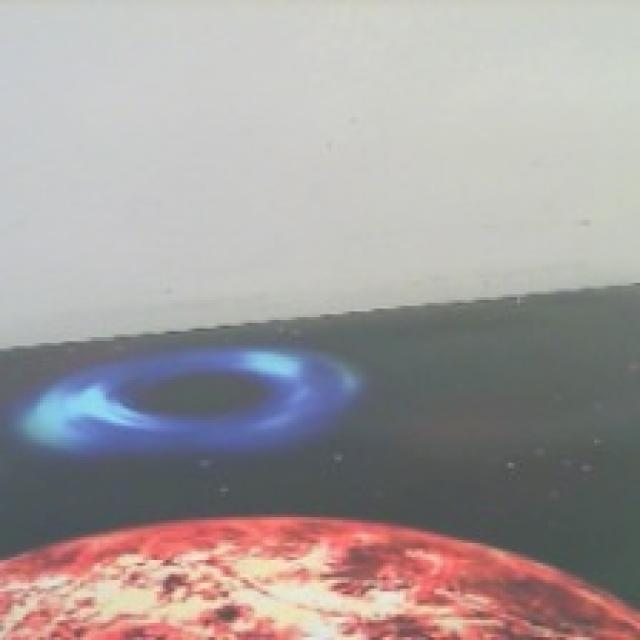Black Hole: (19, 330, 362, 452)
Sun: (0, 511, 640, 640)
